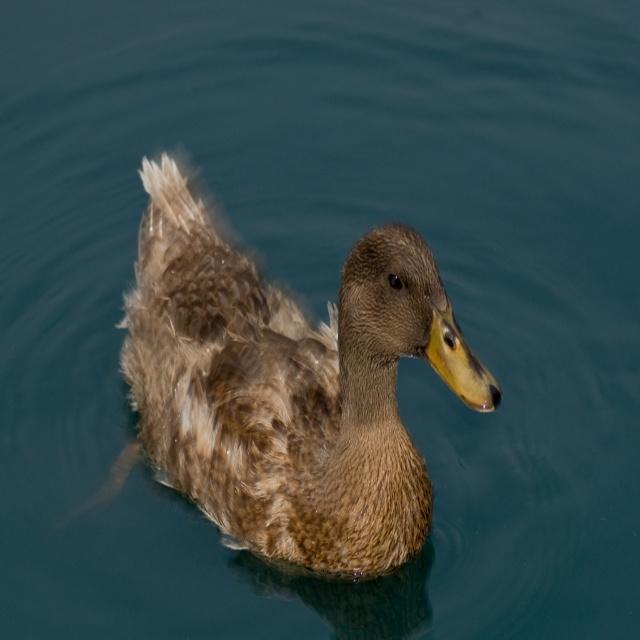Duck: (114, 152, 504, 580)
